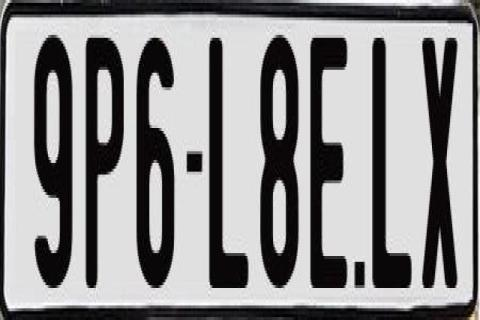0: (34, 26, 78, 291), (258, 29, 303, 285), (136, 29, 176, 297)
E: (307, 38, 345, 306)
L: (371, 35, 417, 294), (208, 29, 253, 285)
P: (84, 38, 124, 291)
X: (422, 29, 460, 279)
